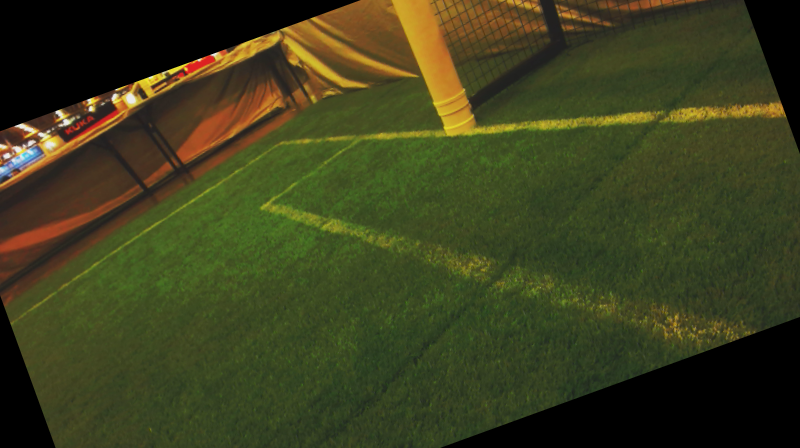post: (417, 89, 493, 148)
